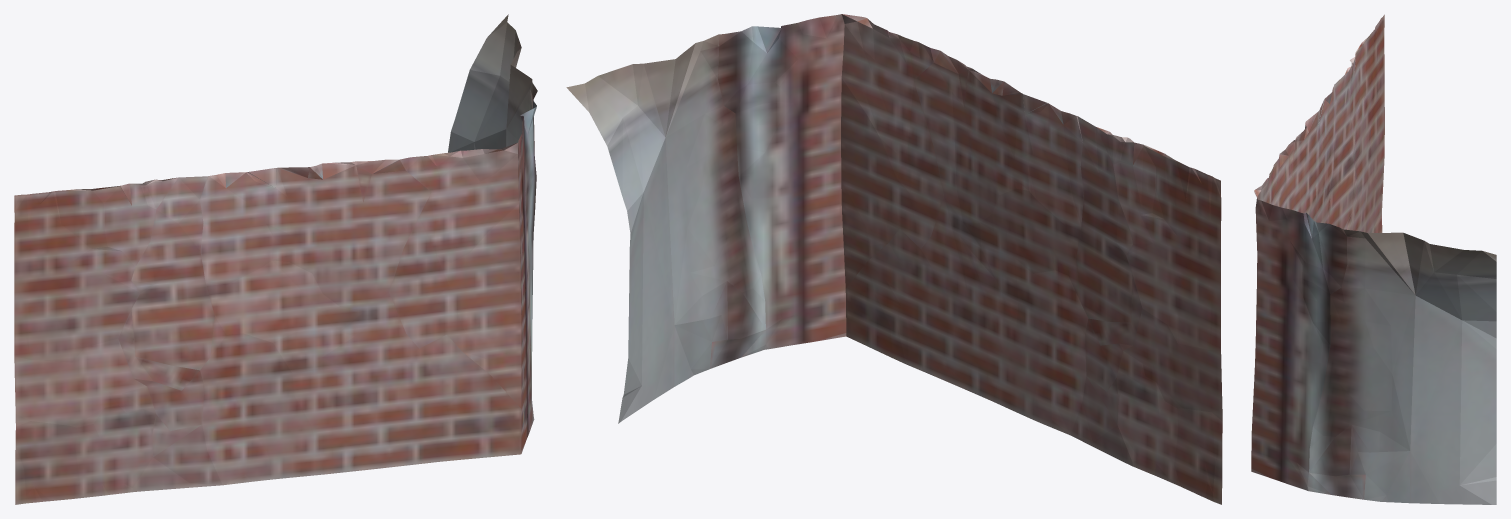
3 views of the same model, side by side, from view 1: azimuth 30°, elevation 25°; view 2: azimuth 150°, elevation 25°; view 3: azimuth 270°, elevation 25° (orthographic). The views are drawn at different scales.
Size of the model in its own units: 2.26 by 1.19 by 0.9767.
1 material, 1 textured.
